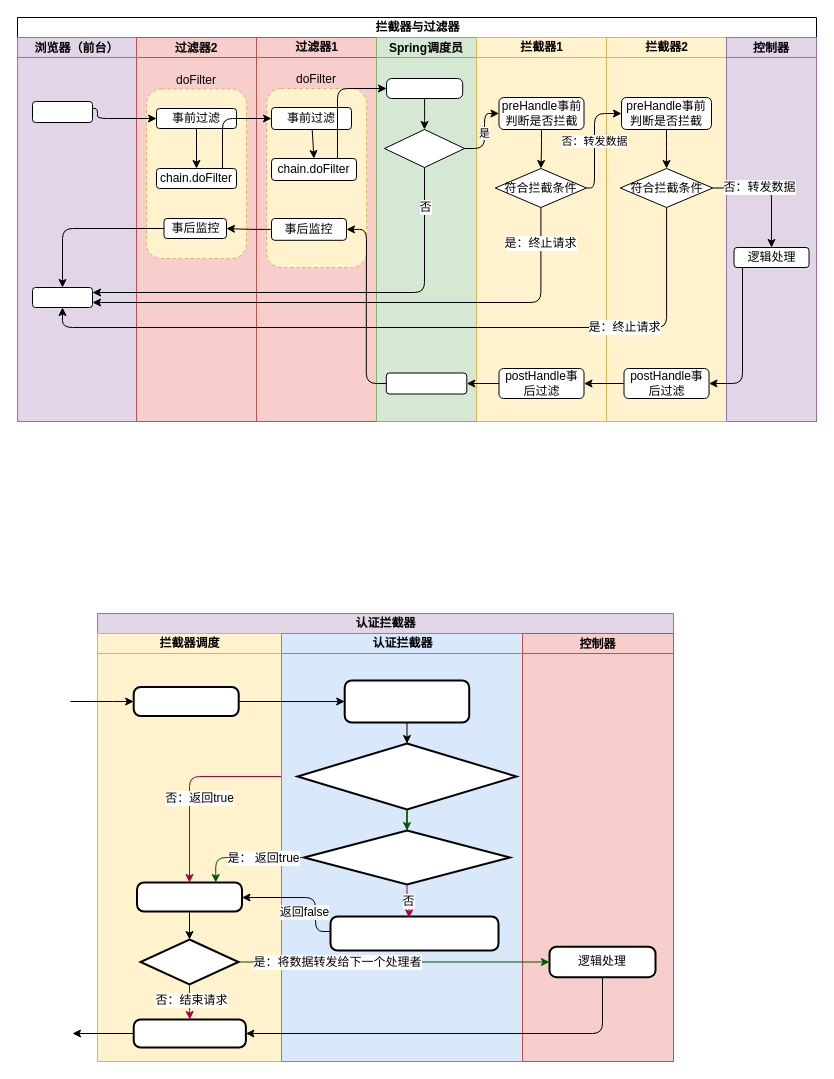
This 834x1079 diagram has some shape labels left out. Each missing label, with the centre of its shape:
"auth-token是否绑定了用户" goes at pixel 406 857.
"为响应加入提示：用户未登录（auth-token未绑定用户）" goes at pixel 414 933.
"匹配成功" goes at pixel 424 148.
"发起请求" goes at pixel 62 111.
"发送响应，结束本次请求" goes at pixel 189 1033.
"完成响应" goes at pixel 426 383.
"接收请求" goes at pixel 62 297.
"接收返回值" goes at pixel 189 896.
"查找路由表" goes at pixel 424 88.
"获取请求地址 获取请求方法" goes at pixel 406 701.
"请求地址为Teacher/login 且请求方法为post" goes at pixel 406 776.
"调用拦截器" goes at pixel 185 701.
"返回值为true" goes at pixel 189 961.
